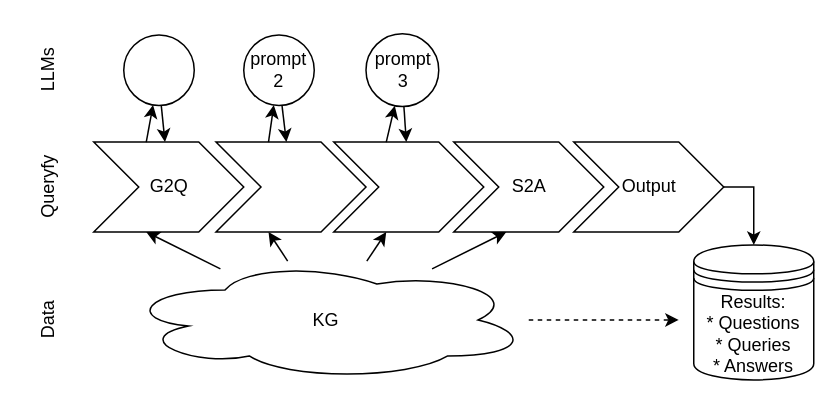
Some shapes in this 840 by 408 pixel diagram are drawn without their labels. Each missing label, with the centre of its shape:
"prompt 1" belongs at (158,69).
"Q2A" belongs at (290,186).
"Q2S" belongs at (408,186).
